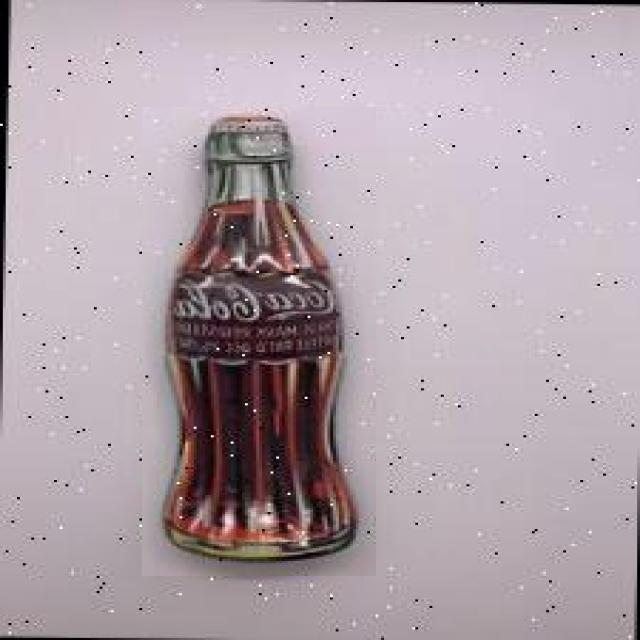coca-cola: (142, 107, 376, 576)
